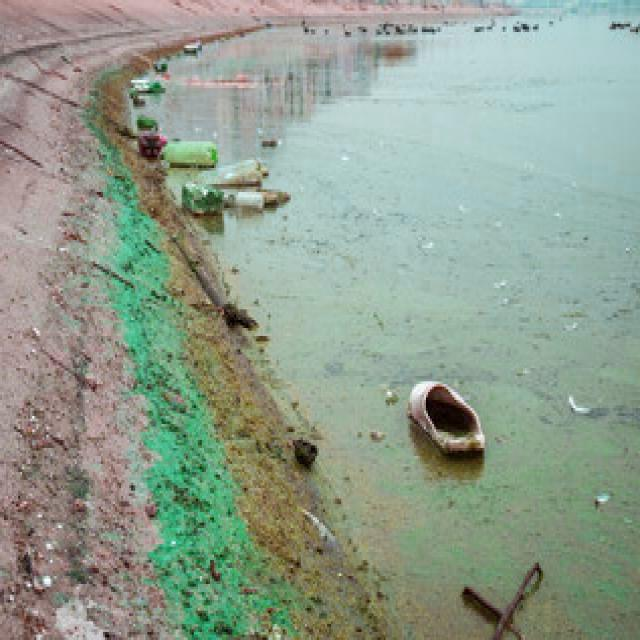Plastic: (195, 154, 278, 189), (175, 174, 227, 219), (156, 138, 221, 165), (229, 192, 286, 213), (124, 73, 158, 94)
Trash: (407, 376, 488, 471)
